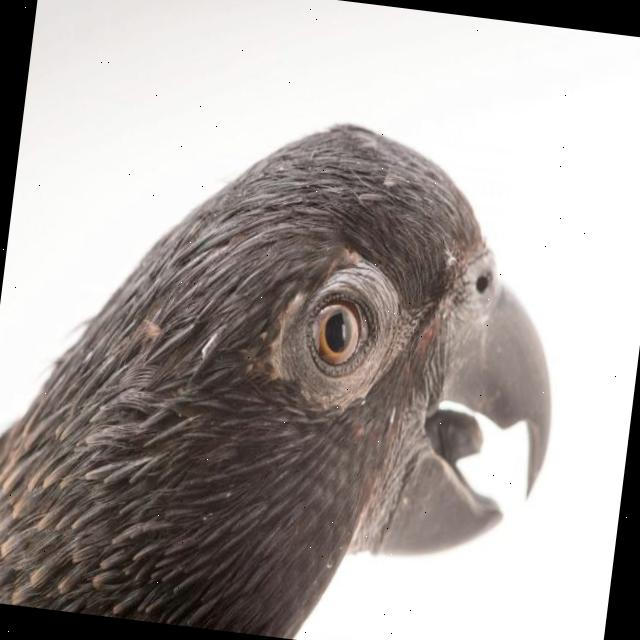Nuri Hitam: (0, 59, 611, 640)
